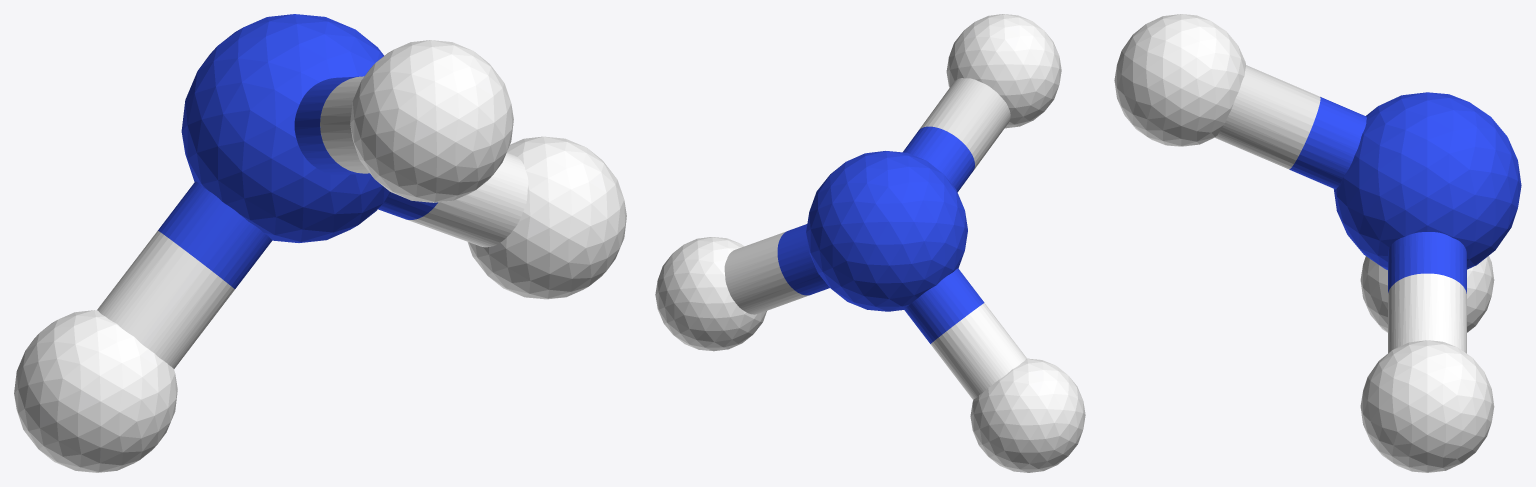
3 views of the same model, side by side, from view 1: azimuth 30°, elevation 25°; view 2: azimuth 150°, elevation 25°; view 3: azimuth 270°, elevation 25° (orthographic). The views are drawn at different scales.
Parts seen in each view (by area): view 1: Shape_IndexedFaceSet.002, Shape_IndexedFaceSet.003, Shape_IndexedFaceSet.001, Shape_IndexedFaceSet, Shape_IndexedFaceSet.009, Shape_IndexedFaceSet.008, Shape_IndexedFaceSet.012, Shape_IndexedFaceSet.006, Shape_IndexedFaceSet.004, Shape_IndexedFaceSet.011; view 2: Shape_IndexedFaceSet.002, Shape_IndexedFaceSet.001, Shape_IndexedFaceSet.003, Shape_IndexedFaceSet, Shape_IndexedFaceSet.009, Shape_IndexedFaceSet.006, Shape_IndexedFaceSet.012, Shape_IndexedFaceSet.008, Shape_IndexedFaceSet.004, Shape_IndexedFaceSet.011; view 3: Shape_IndexedFaceSet.002, Shape_IndexedFaceSet, Shape_IndexedFaceSet.003, Shape_IndexedFaceSet.006, Shape_IndexedFaceSet.012, Shape_IndexedFaceSet.004, Shape_IndexedFaceSet.011, Shape_IndexedFaceSet.001.
Part boxes in pixels (x1=…): Shape_IndexedFaceSet.002: x1=181, y1=14, x2=391, y2=242; Shape_IndexedFaceSet.003: x1=350, y1=40, x2=513, y2=202; Shape_IndexedFaceSet.001: x1=14, y1=310, x2=177, y2=472; Shape_IndexedFaceSet: x1=467, y1=136, x2=626, y2=299; Shape_IndexedFaceSet.009: x1=97, y1=231, x2=234, y2=368; Shape_IndexedFaceSet.008: x1=158, y1=181, x2=271, y2=288; Shape_IndexedFaceSet.012: x1=407, y1=152, x2=528, y2=247; Shape_IndexedFaceSet.006: x1=320, y1=76, x2=369, y2=173; Shape_IndexedFaceSet.004: x1=294, y1=76, x2=362, y2=174; Shape_IndexedFaceSet.011: x1=378, y1=192, x2=437, y2=219; Shape_IndexedFaceSet.002: x1=806, y1=151, x2=967, y2=311; Shape_IndexedFaceSet.001: x1=970, y1=358, x2=1085, y2=472; Shape_IndexedFaceSet.003: x1=946, y1=14, x2=1061, y2=128; Shape_IndexedFaceSet: x1=655, y1=237, x2=766, y2=351; Shape_IndexedFaceSet.009: x1=930, y1=303, x2=1027, y2=399; Shape_IndexedFaceSet.006: x1=919, y1=78, x2=1010, y2=169; Shape_IndexedFaceSet.012: x1=724, y1=231, x2=808, y2=314; Shape_IndexedFaceSet.008: x1=904, y1=268, x2=984, y2=343; Shape_IndexedFaceSet.004: x1=903, y1=126, x2=974, y2=192; Shape_IndexedFaceSet.011: x1=777, y1=224, x2=829, y2=295; Shape_IndexedFaceSet.002: x1=1334, y1=92, x2=1521, y2=269; Shape_IndexedFaceSet: x1=1360, y1=340, x2=1494, y2=472; Shape_IndexedFaceSet.003: x1=1114, y1=14, x2=1245, y2=146; Shape_IndexedFaceSet.006: x1=1215, y1=65, x2=1320, y2=169; Shape_IndexedFaceSet.012: x1=1388, y1=273, x2=1466, y2=353; Shape_IndexedFaceSet.004: x1=1289, y1=97, x2=1366, y2=189; Shape_IndexedFaceSet.011: x1=1388, y1=232, x2=1466, y2=293; Shape_IndexedFaceSet.001: x1=1360, y1=256, x2=1494, y2=332.
Size of the model in its own units: 0.4217 by 0.33 by 0.3086.
